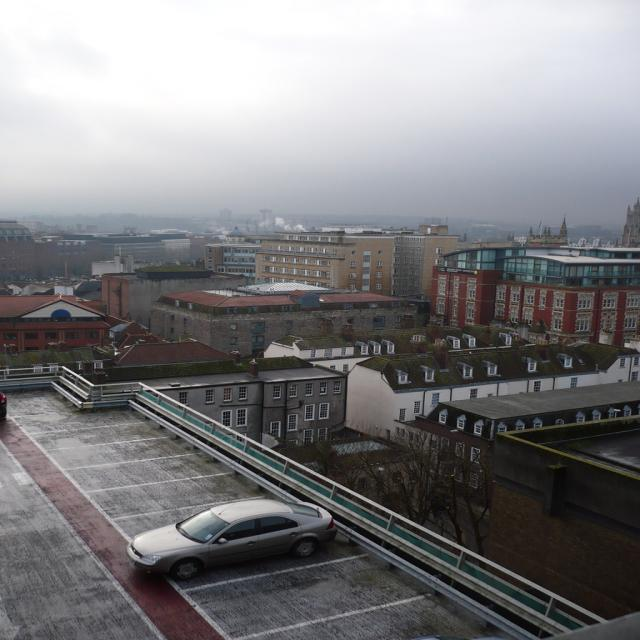car: (123, 498, 335, 584)
